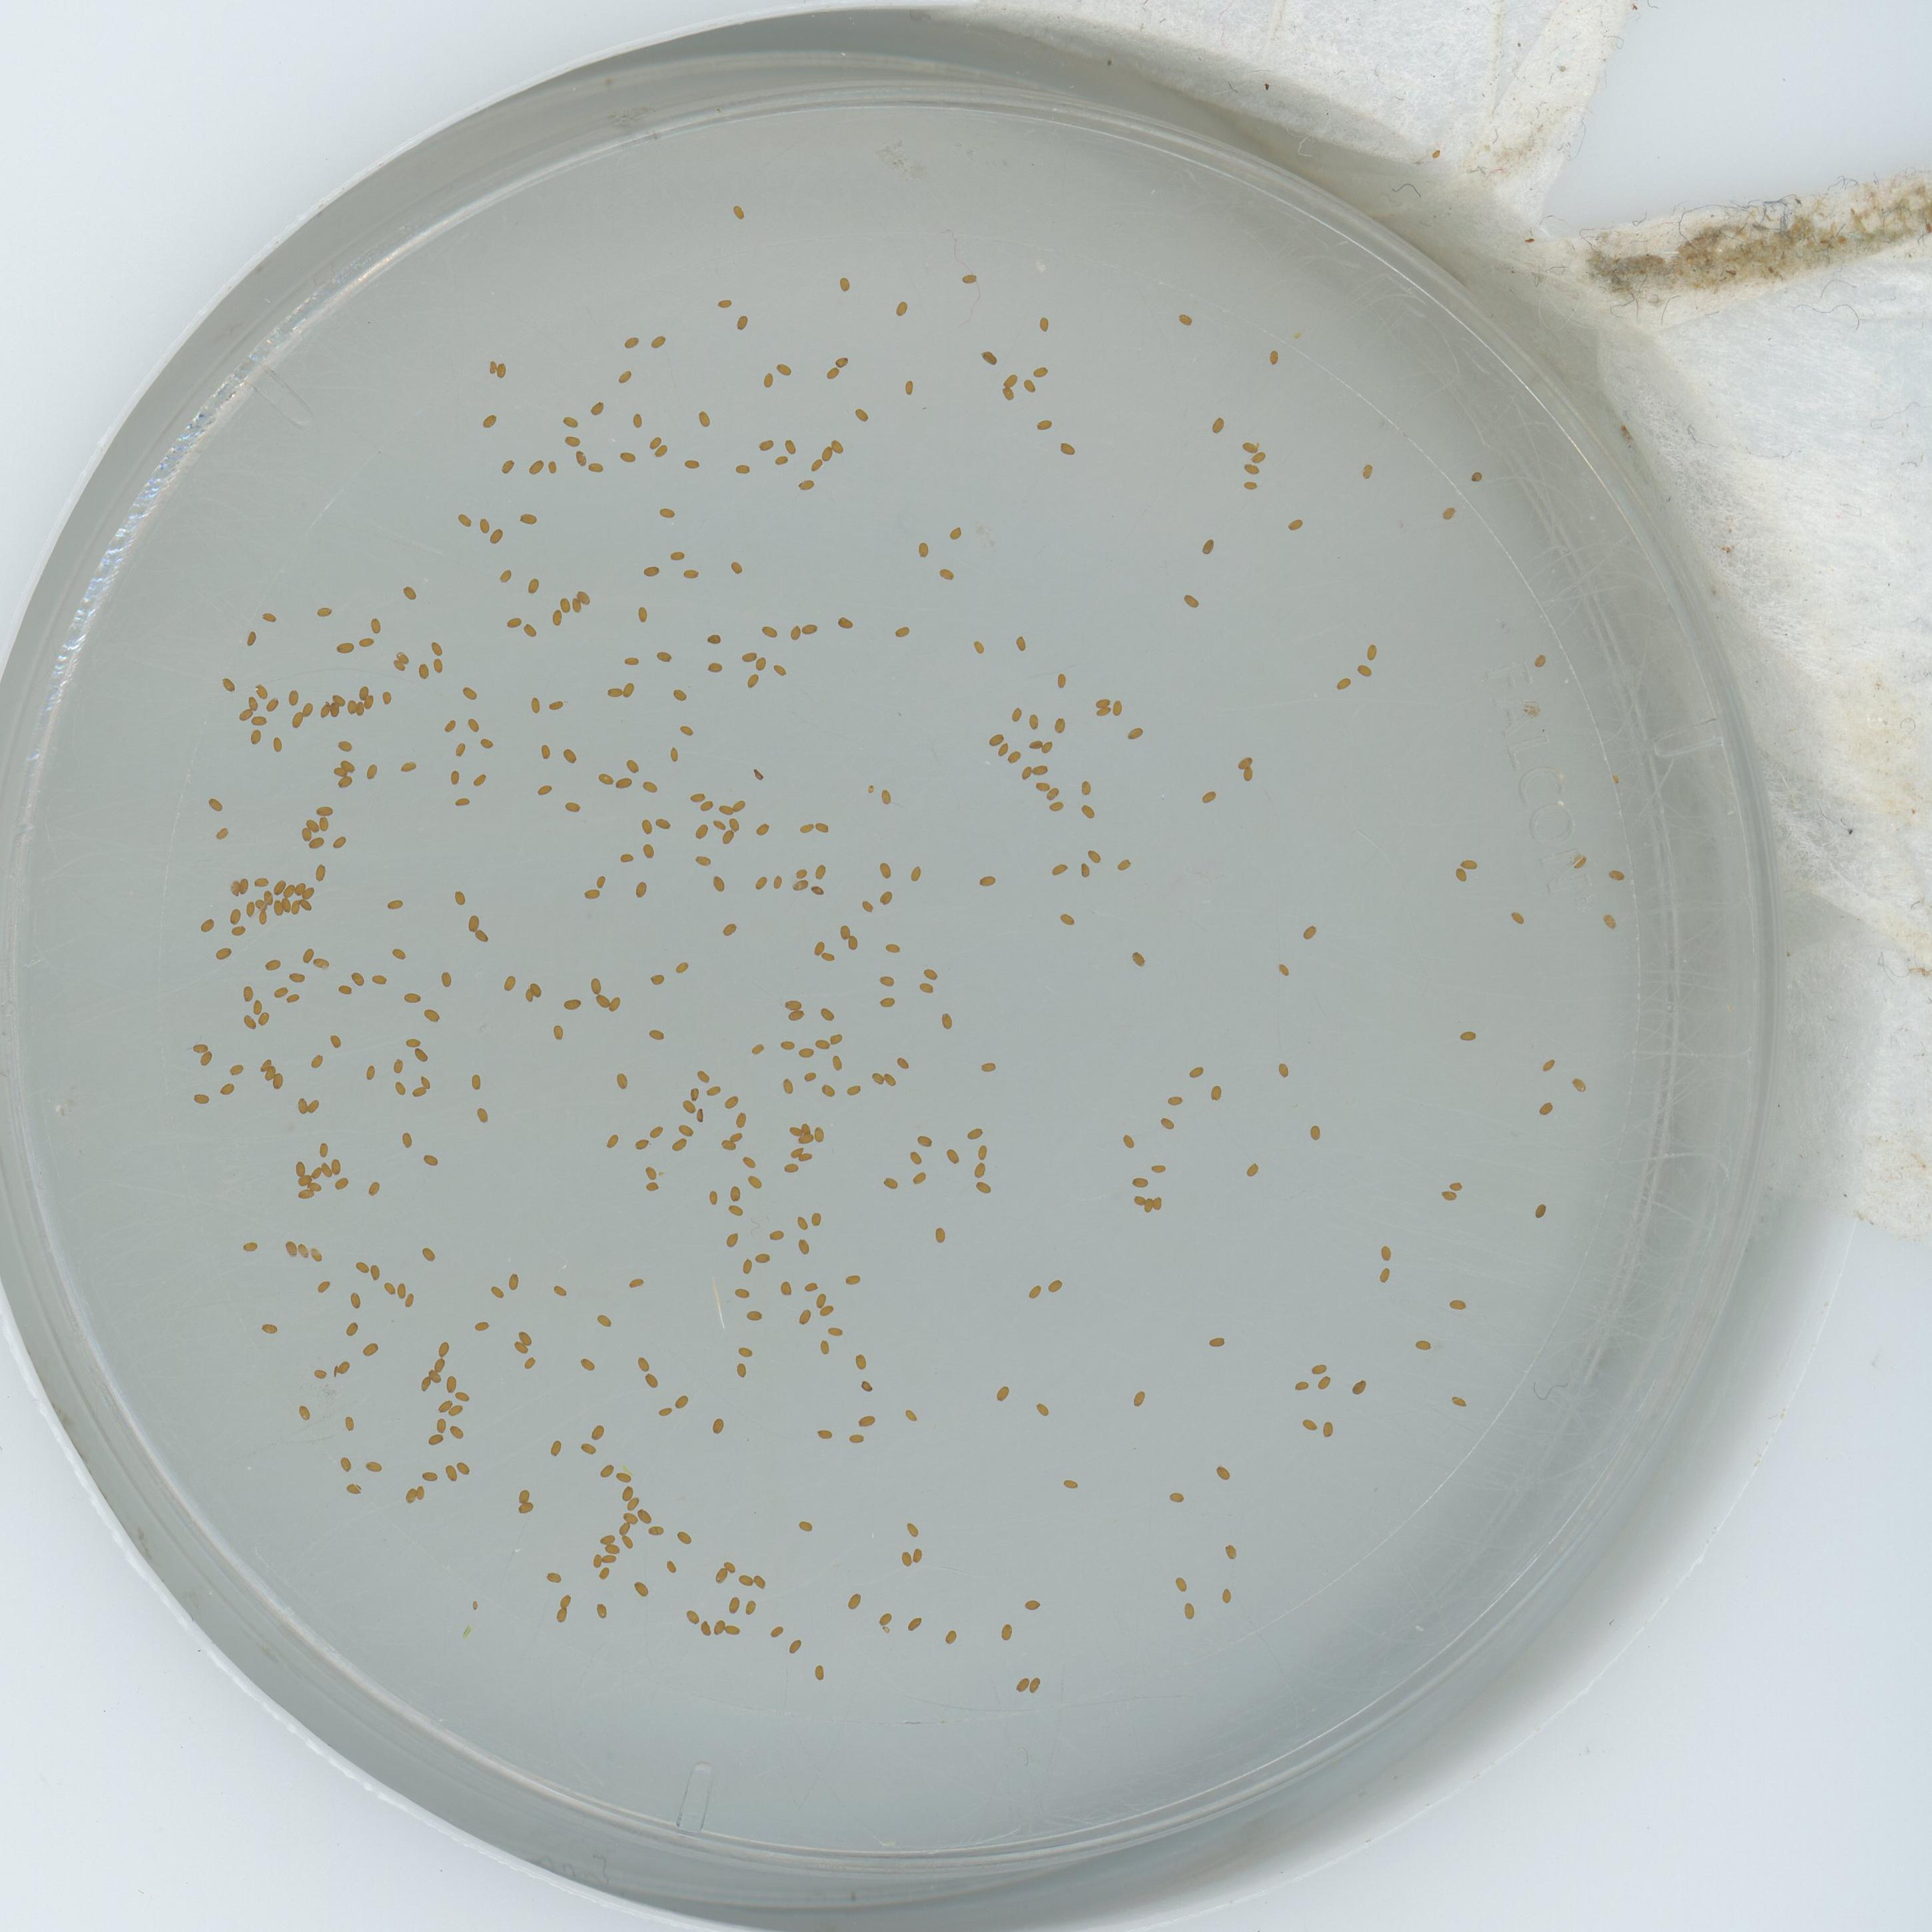seed: (609, 1070, 630, 1092), (1033, 315, 1054, 336), (1522, 699, 1543, 718), (1605, 865, 1626, 885), (1320, 1419, 1338, 1442), (778, 996, 803, 1012), (630, 881, 649, 901), (632, 1578, 651, 1598), (442, 1375, 462, 1394), (778, 1077, 798, 1097), (943, 1146, 962, 1166), (724, 1092, 741, 1113), (876, 993, 897, 1010), (361, 1062, 379, 1083), (287, 1161, 308, 1178), (1530, 653, 1552, 671), (1207, 1083, 1224, 1104), (1375, 1265, 1392, 1286), (1568, 853, 1589, 870), (1601, 913, 1622, 931), (327, 1155, 343, 1178), (938, 1010, 954, 1033), (361, 763, 380, 780), (476, 517, 494, 536), (198, 916, 218, 934), (587, 1422, 607, 1440), (308, 1051, 326, 1070), (327, 1031, 345, 1051), (724, 1596, 741, 1615), (732, 1109, 750, 1129), (347, 1292, 364, 1311), (433, 1398, 451, 1417), (828, 1054, 846, 1074), (616, 1484, 635, 1502), (1054, 439, 1074, 456), (1362, 644, 1382, 662), (1178, 1601, 1198, 1619), (1129, 1171, 1148, 1189), (520, 508, 538, 525), (752, 874, 770, 892), (649, 333, 667, 350), (709, 876, 727, 893), (587, 400, 605, 418), (782, 437, 800, 455), (525, 577, 543, 594), (225, 906, 242, 924), (561, 747, 579, 764), (460, 685, 478, 702), (625, 757, 642, 775), (623, 333, 640, 350), (878, 862, 895, 879), (899, 379, 916, 396), (297, 945, 315, 962), (564, 798, 582, 816), (695, 409, 713, 426), (487, 527, 504, 545), (855, 1352, 872, 1369), (862, 1410, 879, 1428), (727, 1201, 745, 1219), (412, 1046, 430, 1063), (504, 1272, 522, 1290), (361, 1338, 379, 1355), (676, 1527, 694, 1545), (725, 1184, 743, 1201), (467, 1072, 485, 1090), (237, 984, 255, 1001), (455, 1460, 472, 1477), (580, 1440, 598, 1458), (883, 1173, 901, 1191), (269, 1074, 287, 1092), (846, 1592, 863, 1610), (340, 1414, 357, 1431), (798, 1307, 816, 1325), (423, 1005, 441, 1023), (364, 1178, 382, 1196), (398, 1131, 416, 1148), (472, 1104, 490, 1122), (419, 1244, 437, 1261), (1129, 948, 1146, 966), (1208, 416, 1226, 433), (1460, 856, 1477, 874), (1125, 724, 1143, 741), (1077, 803, 1095, 821), (961, 271, 978, 288), (993, 1384, 1010, 1401), (1309, 1359, 1327, 1376), (1129, 1389, 1146, 1407), (1187, 1063, 1205, 1081), (1274, 1062, 1292, 1079), (1221, 1543, 1238, 1560), (860, 1376, 878, 1394), (310, 865, 329, 881), (212, 945, 232, 961), (561, 412, 580, 428), (617, 448, 637, 464), (932, 1226, 948, 1246), (368, 1263, 384, 1283), (734, 1361, 750, 1380), (817, 1005, 837, 1021), (747, 1040, 766, 1056), (1049, 862, 1069, 878), (978, 872, 998, 888), (1044, 1276, 1063, 1292), (1445, 1178, 1465, 1194), (1460, 1026, 1476, 1046), (644, 1125, 665, 1139), (393, 1077, 407, 1099), (571, 449, 587, 467), (462, 915, 479, 931), (878, 890, 895, 906), (837, 616, 855, 632), (740, 648, 757, 663), (451, 890, 469, 906), (640, 844, 658, 860), (525, 458, 543, 474), (658, 504, 676, 520), (708, 658, 725, 674), (504, 614, 522, 630), (717, 294, 734, 310), (471, 771, 488, 787), (625, 653, 642, 669), (315, 817, 333, 833), (253, 683, 271, 699), (499, 458, 517, 474), (414, 663, 432, 679), (655, 816, 672, 832), (814, 863, 830, 881), (336, 639, 354, 655), (308, 835, 326, 851), (837, 922, 853, 939), (315, 801, 333, 817), (386, 895, 403, 911), (246, 729, 264, 745), (357, 635, 375, 651), (639, 817, 655, 835), (548, 610, 566, 626), (798, 476, 816, 492), (803, 619, 821, 635), (264, 699, 281, 715), (285, 690, 303, 706), (669, 547, 686, 563), (722, 920, 740, 936), (587, 458, 605, 474), (366, 617, 384, 633), (219, 678, 237, 694), (694, 853, 711, 869), (915, 541, 932, 557), (688, 791, 706, 807), (763, 623, 780, 639), (334, 738, 352, 754), (241, 630, 258, 646), (428, 640, 446, 656), (775, 361, 793, 377), (759, 372, 777, 387), (616, 775, 633, 791), (478, 736, 495, 752), (885, 938, 901, 955), (947, 525, 964, 541), (577, 587, 593, 605), (809, 456, 826, 472), (265, 957, 281, 975), (736, 1571, 754, 1587), (343, 1481, 361, 1497), (545, 1569, 563, 1585), (801, 1067, 819, 1083), (911, 1168, 929, 1184), (743, 1599, 761, 1615), (678, 1120, 695, 1136), (271, 982, 288, 998), (600, 1461, 616, 1479), (637, 1507, 655, 1523), (315, 1277, 333, 1293), (218, 1079, 235, 1095), (849, 1430, 867, 1445), (389, 1056, 407, 1072), (922, 966, 939, 982), (704, 1187, 722, 1203), (343, 1322, 361, 1338), (260, 1320, 278, 1336), (295, 1405, 313, 1421), (313, 1141, 331, 1157), (579, 1355, 596, 1371), (885, 1069, 901, 1086), (635, 1355, 653, 1371), (442, 1463, 458, 1481), (778, 1279, 796, 1295), (846, 1270, 863, 1286), (191, 1042, 209, 1058), (709, 1417, 727, 1433), (453, 1387, 471, 1403), (648, 1024, 665, 1040), (803, 1279, 821, 1295), (336, 1456, 354, 1472), (241, 1237, 258, 1253), (448, 1424, 465, 1440), (248, 998, 265, 1014), (547, 1440, 564, 1456), (421, 1467, 439, 1483), (796, 1237, 814, 1253), (421, 1150, 439, 1166), (741, 1152, 759, 1168), (747, 1173, 764, 1189), (241, 1012, 257, 1030), (379, 1279, 396, 1295), (333, 1175, 350, 1191), (402, 1293, 418, 1311), (906, 1615, 924, 1631), (226, 1060, 244, 1076), (681, 1100, 699, 1116), (798, 1044, 816, 1060), (557, 1592, 575, 1608), (814, 1035, 832, 1051), (191, 1088, 209, 1104), (725, 1230, 741, 1247), (616, 1468, 633, 1484), (196, 1051, 214, 1067), (686, 1085, 704, 1100), (292, 1097, 308, 1115), (982, 349, 998, 366), (1033, 416, 1051, 432), (1016, 764, 1033, 780), (1001, 370, 1019, 386), (1083, 847, 1100, 863), (1030, 363, 1047, 379), (1024, 713, 1040, 731), (987, 729, 1003, 747), (1076, 780, 1093, 796), (1200, 787, 1217, 803), (1182, 593, 1200, 609), (1286, 517, 1304, 533), (1031, 777, 1049, 793), (1051, 672, 1067, 690), (1300, 924, 1318, 939), (1357, 462, 1375, 478), (1023, 1596, 1040, 1612), (1300, 1415, 1318, 1431), (1024, 1283, 1042, 1299), (998, 1622, 1014, 1640), (1350, 1378, 1368, 1394), (1214, 1463, 1231, 1479), (1148, 1159, 1166, 1175), (1449, 1295, 1467, 1311), (1532, 1201, 1550, 1217), (1062, 1476, 1079, 1491), (966, 1125, 984, 1141), (973, 1143, 991, 1159), (1207, 1332, 1224, 1348), (1028, 1675, 1044, 1693), (1276, 961, 1292, 978), (1306, 1123, 1323, 1139), (334, 777, 354, 791), (393, 1281, 407, 1300), (308, 1095, 322, 1115), (488, 1284, 508, 1299), (814, 1125, 828, 1145), (297, 1240, 310, 1261), (453, 743, 469, 759), (810, 883, 826, 899), (860, 899, 876, 915), (908, 867, 924, 883), (685, 456, 701, 472), (598, 771, 614, 787), (481, 412, 497, 428), (656, 648, 672, 663), (798, 821, 814, 837), (400, 759, 416, 775), (837, 276, 853, 292), (832, 437, 847, 453), (635, 607, 651, 623), (448, 770, 464, 786), (379, 690, 395, 706), (538, 782, 554, 798), (617, 368, 633, 384), (260, 609, 276, 625), (720, 830, 736, 846), (524, 623, 540, 639), (391, 945, 407, 961), (642, 777, 658, 793), (288, 713, 304, 729), (269, 736, 285, 752), (207, 796, 223, 812), (455, 794, 471, 810), (214, 826, 230, 842), (708, 632, 724, 648), (538, 743, 554, 759), (646, 433, 662, 449), (456, 511, 472, 527), (893, 301, 909, 317), (812, 939, 828, 955), (235, 708, 251, 724), (755, 821, 771, 837), (667, 747, 683, 763), (694, 824, 709, 840), (442, 718, 458, 734), (755, 655, 771, 671), (297, 826, 313, 842), (731, 203, 747, 219), (299, 702, 315, 718), (729, 559, 745, 575), (630, 412, 646, 428), (699, 798, 715, 814), (736, 460, 752, 476), (821, 446, 837, 462), (430, 658, 446, 674), (329, 692, 345, 708), (255, 909, 271, 925), (816, 819, 832, 835), (225, 881, 241, 897), (329, 704, 345, 720), (235, 878, 251, 893), (405, 1031, 421, 1047), (918, 980, 934, 996), (564, 996, 580, 1012), (755, 1249, 771, 1265), (904, 1522, 920, 1537), (437, 971, 453, 987), (770, 1226, 786, 1242), (817, 1338, 833, 1353), (642, 1371, 658, 1387), (257, 1010, 272, 1026), (587, 977, 603, 993), (784, 1159, 800, 1175), (352, 1258, 368, 1274), (686, 1610, 702, 1626), (747, 1306, 763, 1322), (502, 975, 518, 991), (672, 1136, 688, 1152), (895, 1053, 911, 1069), (736, 1284, 752, 1300), (435, 1341, 451, 1357), (649, 1523, 665, 1539), (828, 1322, 844, 1338), (552, 1281, 568, 1297), (511, 1339, 527, 1355), (695, 1069, 711, 1085), (598, 1532, 614, 1548), (550, 1023, 566, 1039), (336, 982, 352, 998), (817, 1424, 833, 1440), (821, 1081, 837, 1097), (644, 1178, 660, 1194), (916, 1134, 932, 1150), (663, 1559, 679, 1575), (740, 1258, 755, 1274), (812, 1292, 828, 1307), (633, 1136, 649, 1152), (593, 993, 609, 1008), (596, 1311, 612, 1327), (754, 1573, 770, 1589), (812, 1665, 828, 1681), (472, 1316, 488, 1332), (879, 1610, 895, 1626), (770, 1622, 786, 1638), (908, 1150, 924, 1166), (787, 1638, 803, 1654), (594, 1603, 610, 1619), (941, 1628, 957, 1644), (904, 1407, 920, 1422), (336, 1361, 352, 1376), (586, 1552, 602, 1568), (1008, 708, 1024, 724), (1058, 911, 1074, 927), (1336, 676, 1352, 692), (1454, 867, 1470, 883), (1012, 635, 1028, 651), (1177, 311, 1192, 327), (1031, 763, 1047, 778), (1007, 750, 1023, 766), (1051, 718, 1067, 734), (1242, 478, 1258, 494), (1509, 909, 1525, 925), (1014, 1675, 1030, 1691), (1541, 1058, 1557, 1074), (1316, 1375, 1332, 1391), (1244, 1161, 1260, 1177), (980, 1058, 996, 1074), (1449, 1392, 1465, 1408), (1173, 1576, 1189, 1592), (1033, 1401, 1049, 1417), (1539, 1099, 1555, 1115), (1166, 1093, 1182, 1109), (1571, 1077, 1587, 1093), (1376, 1246, 1392, 1261), (1132, 1192, 1148, 1208), (614, 1522, 630, 1537), (605, 685, 623, 699), (711, 817, 729, 832), (464, 718, 481, 732), (472, 929, 490, 943), (315, 603, 333, 617), (329, 835, 347, 849), (642, 563, 660, 577), (683, 566, 701, 580), (773, 453, 791, 467), (855, 407, 872, 421), (771, 663, 789, 678), (938, 566, 955, 580), (745, 674, 763, 688), (731, 798, 748, 812), (400, 586, 418, 600), (793, 879, 810, 893), (584, 886, 602, 901), (619, 851, 637, 865), (340, 759, 357, 773), (313, 955, 331, 970), (432, 1417, 449, 1431), (363, 1458, 380, 1472), (672, 1394, 690, 1408), (706, 1083, 724, 1097), (729, 1129, 743, 1146), (778, 1039, 796, 1053), (426, 1433, 444, 1447), (287, 970, 304, 984), (414, 1486, 428, 1504), (520, 1355, 538, 1369), (738, 1343, 755, 1357), (819, 1304, 837, 1318), (724, 1624, 741, 1638), (789, 1008, 807, 1023), (798, 1518, 816, 1532), (628, 1274, 646, 1288), (787, 1122, 801, 1139), (1024, 736, 1042, 750), (1242, 462, 1260, 476), (1355, 663, 1373, 678), (1042, 787, 1060, 801), (1168, 1490, 1185, 1504), (1293, 1378, 1311, 1392), (1150, 1194, 1164, 1212), (253, 901, 271, 915), (1141, 1198, 1155, 1215), (283, 1238, 295, 1258), (304, 1180, 324, 1192), (674, 961, 694, 973), (1237, 755, 1256, 768), (718, 801, 734, 816), (787, 626, 803, 640), (593, 874, 609, 888), (672, 688, 688, 702), (564, 433, 580, 448), (771, 876, 786, 892), (497, 568, 513, 582), (244, 695, 258, 711), (545, 460, 561, 474), (759, 437, 775, 451), (895, 625, 911, 639), (734, 315, 750, 329), (826, 366, 842, 380), (548, 699, 564, 713), (242, 902, 257, 918), (833, 354, 849, 368), (879, 789, 895, 803), (230, 924, 246, 938), (529, 697, 543, 713), (679, 724, 695, 738), (497, 363, 511, 379), (623, 681, 639, 695), (251, 713, 267, 727), (655, 444, 671, 458), (251, 874, 267, 888), (847, 934, 862, 950), (396, 649, 410, 665), (317, 702, 331, 718), (301, 817, 317, 832), (870, 1069, 885, 1085), (350, 970, 364, 985), (899, 1550, 913, 1566), (448, 1403, 464, 1417), (403, 989, 419, 1003), (515, 1490, 531, 1504), (911, 1548, 925, 1564), (649, 971, 665, 985), (311, 1366, 327, 1380), (370, 971, 386, 985), (605, 1132, 621, 1146), (658, 1403, 674, 1417), (828, 1031, 842, 1047), (554, 1608, 570, 1622), (810, 1210, 826, 1224), (847, 1081, 863, 1095), (609, 996, 623, 1012), (402, 1486, 416, 1502), (796, 1215, 812, 1230), (642, 1166, 658, 1180), (879, 973, 895, 987), (518, 1502, 534, 1516), (713, 1569, 729, 1583), (410, 1085, 426, 1099), (517, 1330, 533, 1345), (625, 1495, 640, 1509), (798, 1152, 814, 1166), (308, 1247, 324, 1261), (531, 980, 545, 996), (418, 1074, 432, 1090), (798, 1131, 812, 1146), (605, 1541, 621, 1555), (1021, 379, 1037, 393), (971, 639, 985, 655), (1240, 439, 1256, 453), (1076, 863, 1092, 878), (1109, 699, 1123, 715), (1000, 386, 1016, 400), (1115, 858, 1131, 872), (1047, 801, 1063, 816), (1265, 350, 1281, 364), (1238, 768, 1254, 782), (1093, 694, 1109, 708), (1037, 741, 1053, 755), (1440, 506, 1456, 520), (1468, 469, 1484, 483), (971, 1162, 987, 1177), (1217, 1589, 1233, 1603), (1415, 1338, 1431, 1352), (975, 1178, 991, 1192), (1157, 1115, 1173, 1129), (1120, 1132, 1136, 1146), (393, 660, 407, 676), (1440, 1189, 1458, 1201), (280, 897, 292, 915), (600, 1555, 619, 1566), (729, 817, 743, 832), (823, 950, 837, 964), (794, 865, 809, 879), (272, 879, 287, 893), (557, 598, 571, 612), (301, 899, 315, 913), (304, 885, 318, 899), (262, 890, 276, 904), (697, 1622, 711, 1637), (598, 1566, 612, 1580), (621, 1536, 635, 1550), (433, 1357, 448, 1371), (724, 1560, 738, 1575), (418, 1378, 432, 1392), (428, 1369, 442, 1384), (1201, 540, 1215, 554), (522, 987, 536, 1001), (290, 901, 303, 916), (720, 1139, 736, 1152), (713, 1619, 725, 1635), (295, 1189, 311, 1201), (260, 1056, 272, 1072), (310, 1164, 322, 1180), (1251, 449, 1267, 462), (996, 741, 1008, 757), (265, 1065, 278, 1081), (320, 1162, 333, 1178), (271, 901, 281, 918), (356, 701, 366, 718), (488, 361, 501, 375), (356, 685, 368, 699), (570, 600, 584, 612), (331, 766, 345, 778), (294, 885, 306, 899), (287, 991, 301, 1003), (621, 1511, 635, 1523), (283, 883, 295, 897), (787, 1146, 803, 1157), (295, 1177, 311, 1187), (801, 1120, 812, 1136), (1093, 708, 1109, 718), (364, 695, 375, 709), (347, 701, 356, 717)
